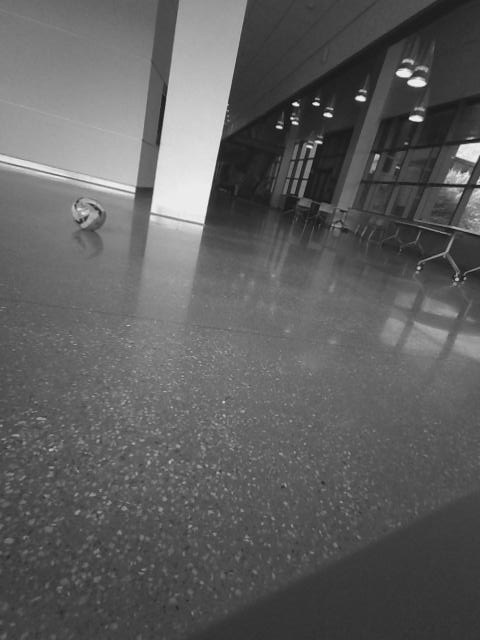ball: (70, 195, 109, 232)
